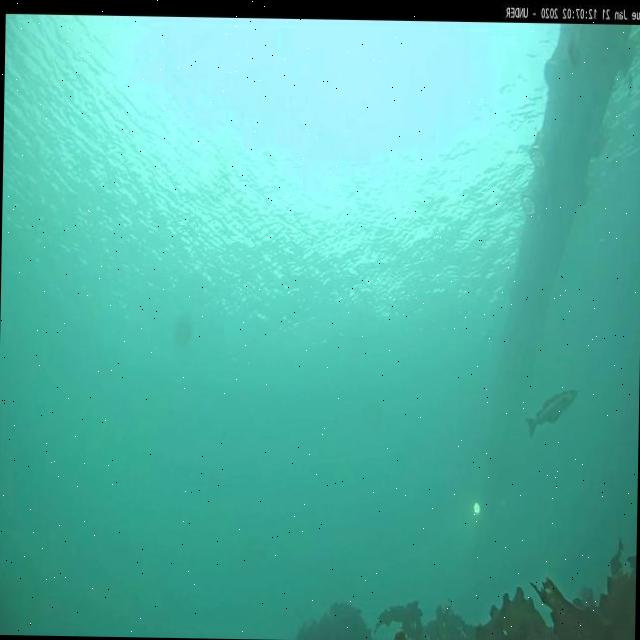fish: (526, 387, 580, 438)
